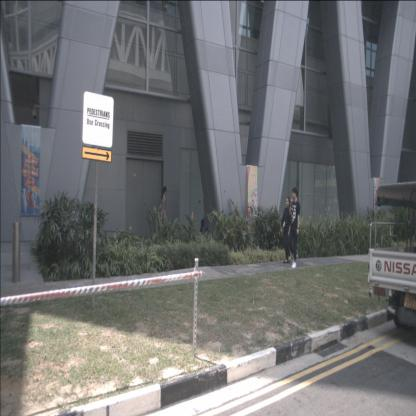human-pedestrian-adult: (289, 186, 301, 268), (281, 196, 292, 263), (159, 186, 169, 242)
vehicle-truck: (367, 180, 416, 337)
